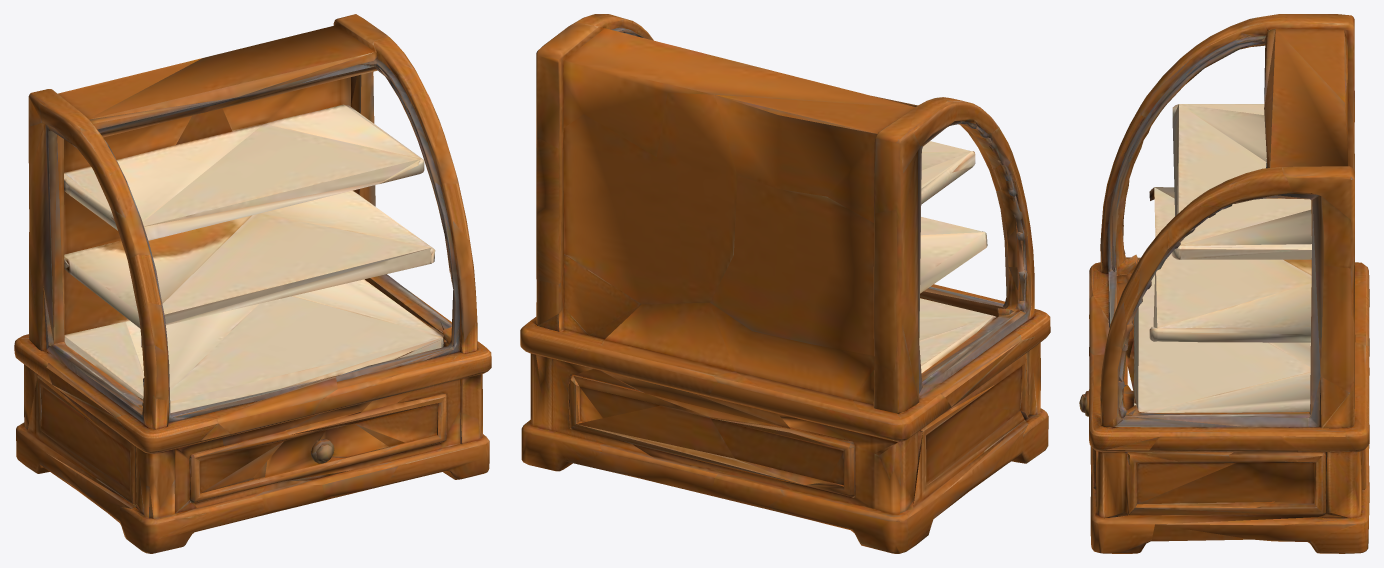
Rendered from pastry_case_empty.gltf.
3 renders of one model, left to right at view 1: azimuth 30°, elevation 25°; view 2: azimuth 150°, elevation 25°; view 3: azimuth 270°, elevation 25°, orthographic. The views are drawn at different scales.
Parts seen in each view (by area): view 1: pastry_case_empty; view 2: pastry_case_empty; view 3: pastry_case_empty.
Part boxes in pixels (<box>): pastry_case_empty: <box>14,14,491,553</box>; pastry_case_empty: <box>520,14,1050,553</box>; pastry_case_empty: <box>1079,14,1369,553</box>.
Size of the model in its own units: 1.9 by 1.91 by 1.34.
Materials: 1 (1 with a texture image).
